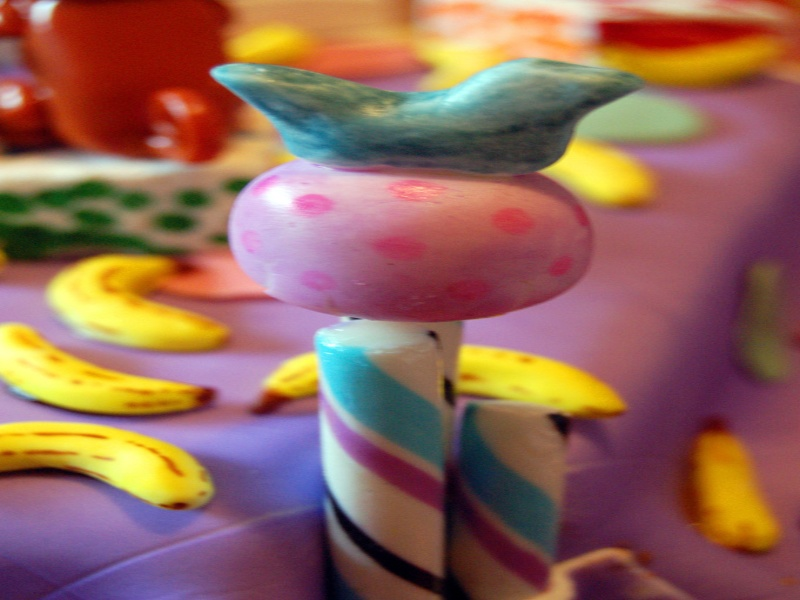banana: (38, 240, 231, 350), (1, 418, 219, 511)
